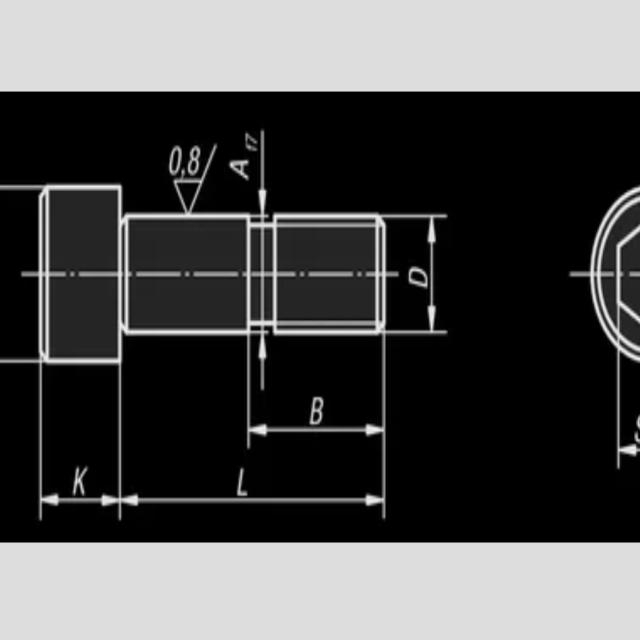marking_line: (115, 365, 389, 518), (244, 338, 393, 450), (36, 366, 123, 518), (388, 209, 447, 337), (614, 360, 640, 475), (255, 129, 269, 210), (256, 336, 270, 393)
numeric: (405, 261, 429, 289), (305, 393, 324, 426), (70, 462, 88, 494), (168, 145, 184, 177), (187, 143, 203, 175), (227, 159, 248, 182), (235, 467, 249, 497), (244, 131, 258, 145), (243, 142, 258, 155)
special_symbol: (174, 147, 218, 212)
